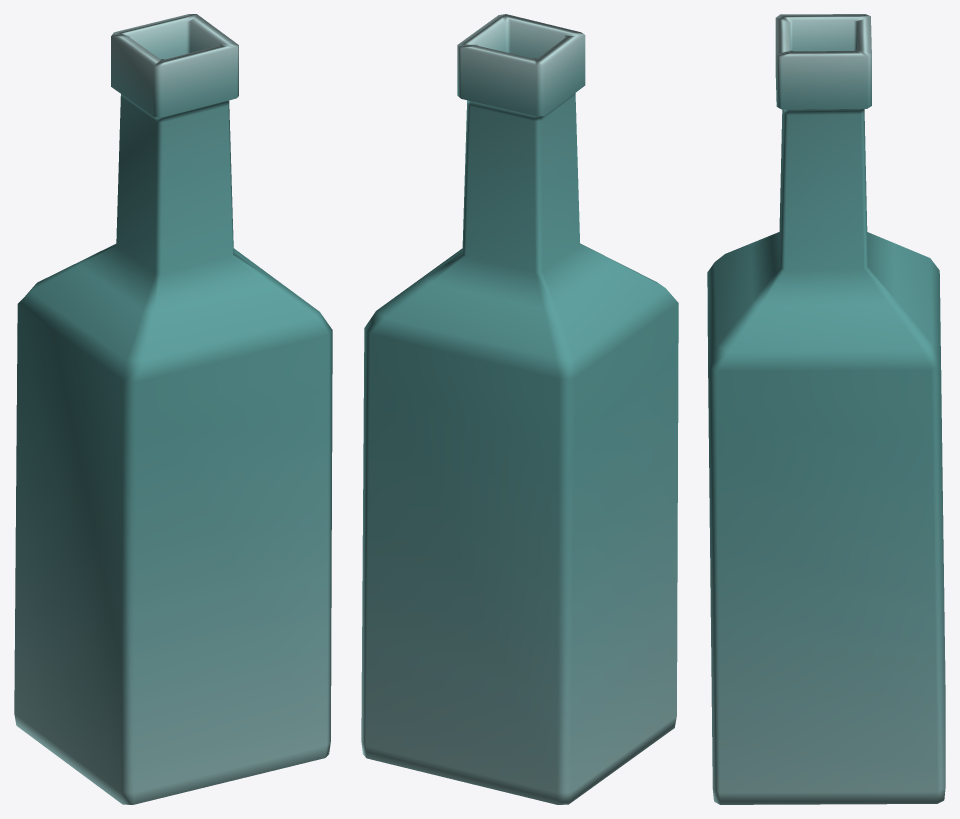
The model's file is PP_Bottle1.fbx.
3 views of the same model, side by side, from view 1: azimuth 30°, elevation 25°; view 2: azimuth 150°, elevation 25°; view 3: azimuth 270°, elevation 25° (orthographic). The views are drawn at different scales.
Parts seen in each view (by area): view 1: bottle_1; view 2: bottle_1; view 3: bottle_1.
Part boxes in pixels (left/top/right/bottom): bottle_1: left=14, top=14, right=332, bottom=804; bottle_1: left=361, top=14, right=678, bottom=804; bottle_1: left=707, top=14, right=945, bottom=804.
Size of the model in its own units: 10.31 by 32.96 by 9.88.
